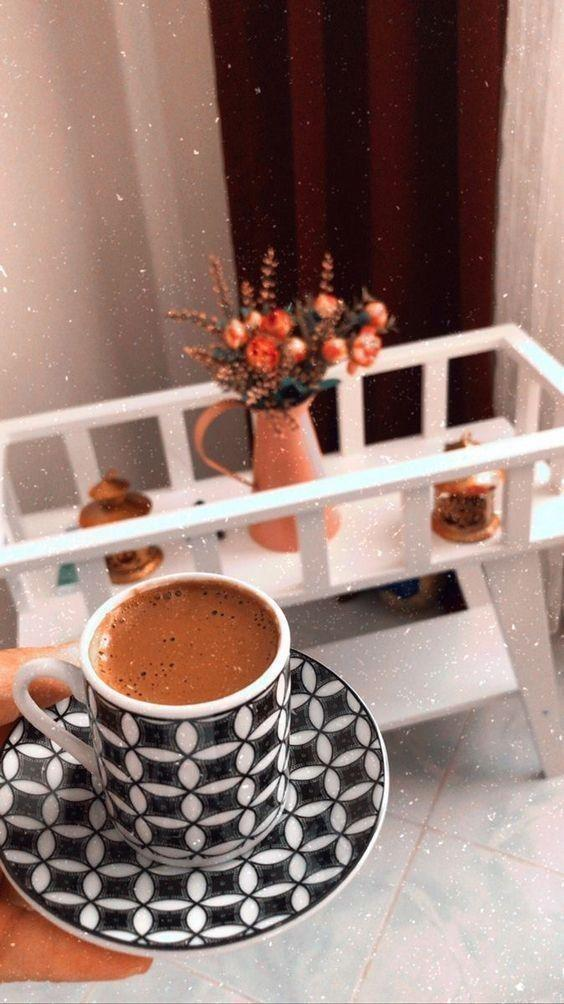cup-handle: (12, 571, 295, 869)
